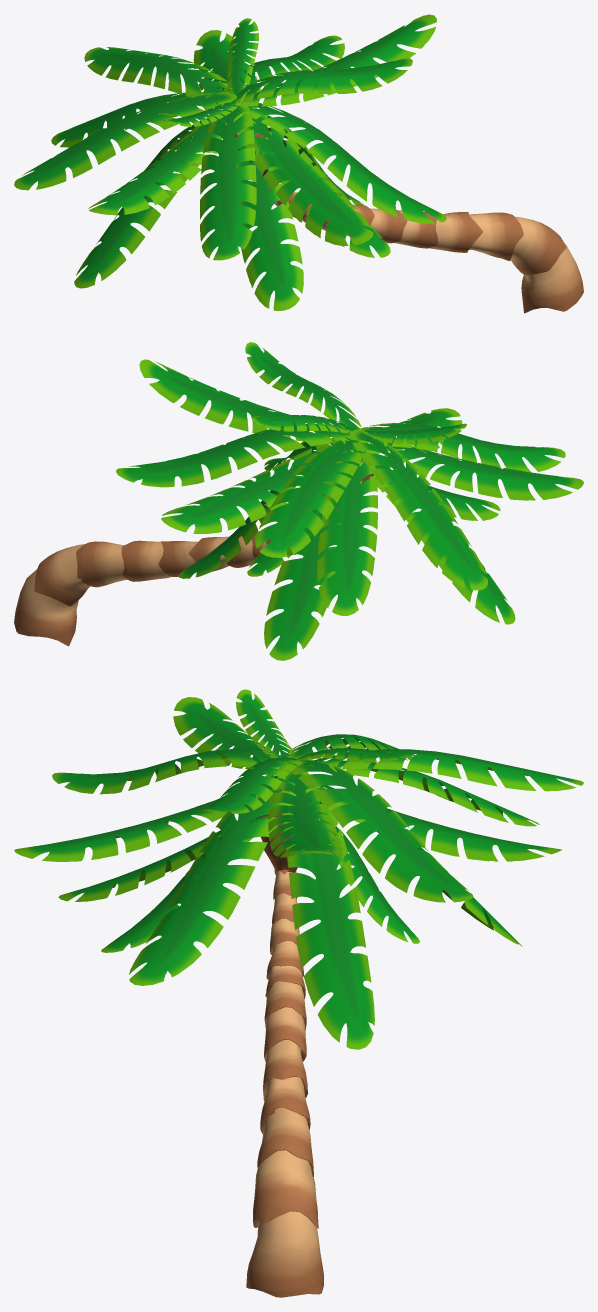
The model's file is PalmTree2.fbx.
3 renders of one model, top to bottom at view 1: azimuth 30°, elevation 25°; view 2: azimuth 150°, elevation 25°; view 3: azimuth 270°, elevation 25°, orthographic. The views are drawn at different scales.
Parts seen in each view (by area): view 1: PalmTree2; view 2: PalmTree2; view 3: PalmTree2.
Part boxes in pixels (x1,y1,x2,y2): PalmTree2: [14, 14, 583, 313]; PalmTree2: [14, 342, 583, 660]; PalmTree2: [14, 689, 583, 1297].
Size of the model in its own units: 6.87 by 3.95 by 5.23.
